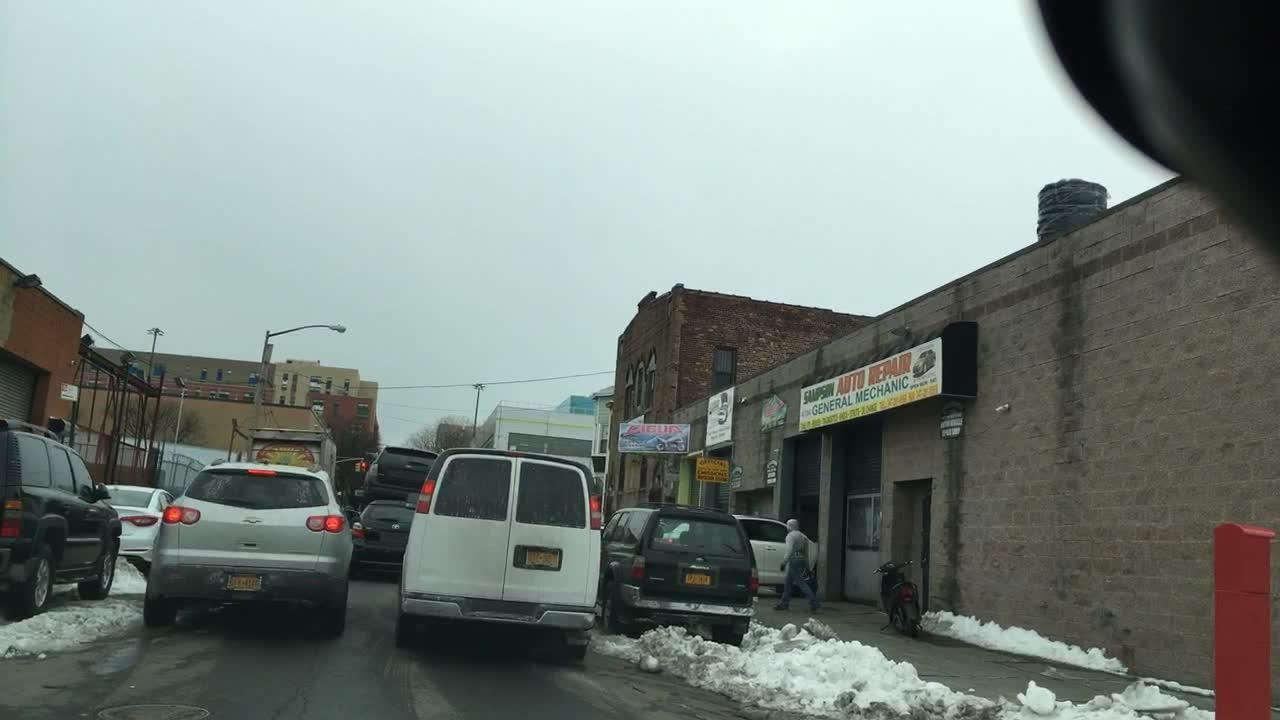chevrolet: (237, 511, 267, 529)
